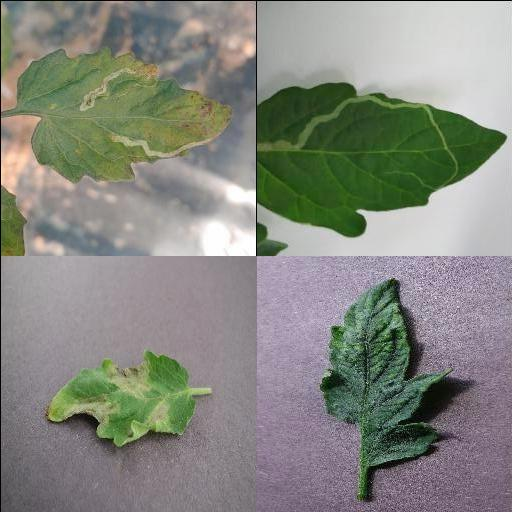Late Blight: (43, 351, 195, 449)
Leaf Miner: (256, 80, 507, 240), (15, 44, 233, 186)
Mosaic Virus: (320, 279, 454, 467)
